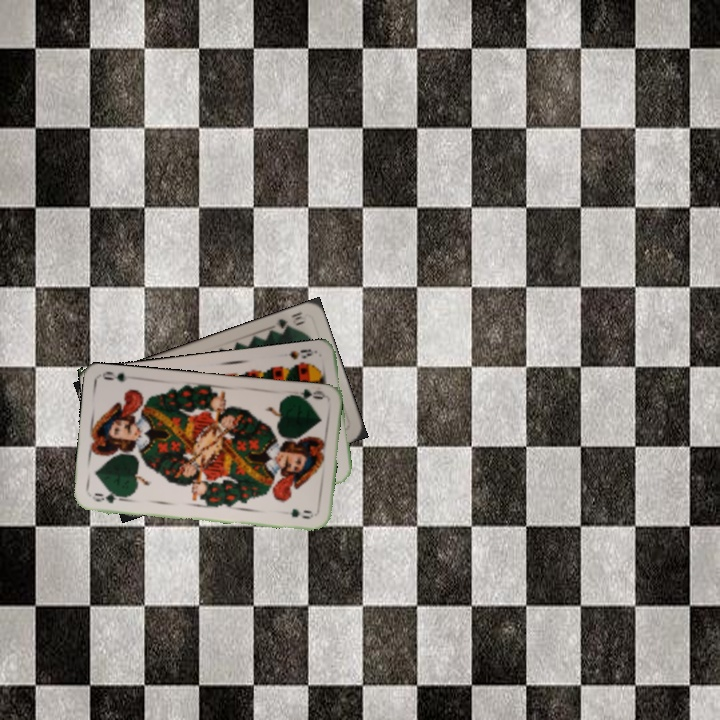G10: (274, 308, 309, 333)
GO: (286, 385, 327, 405), (88, 489, 128, 506)
S8: (285, 345, 320, 362)
